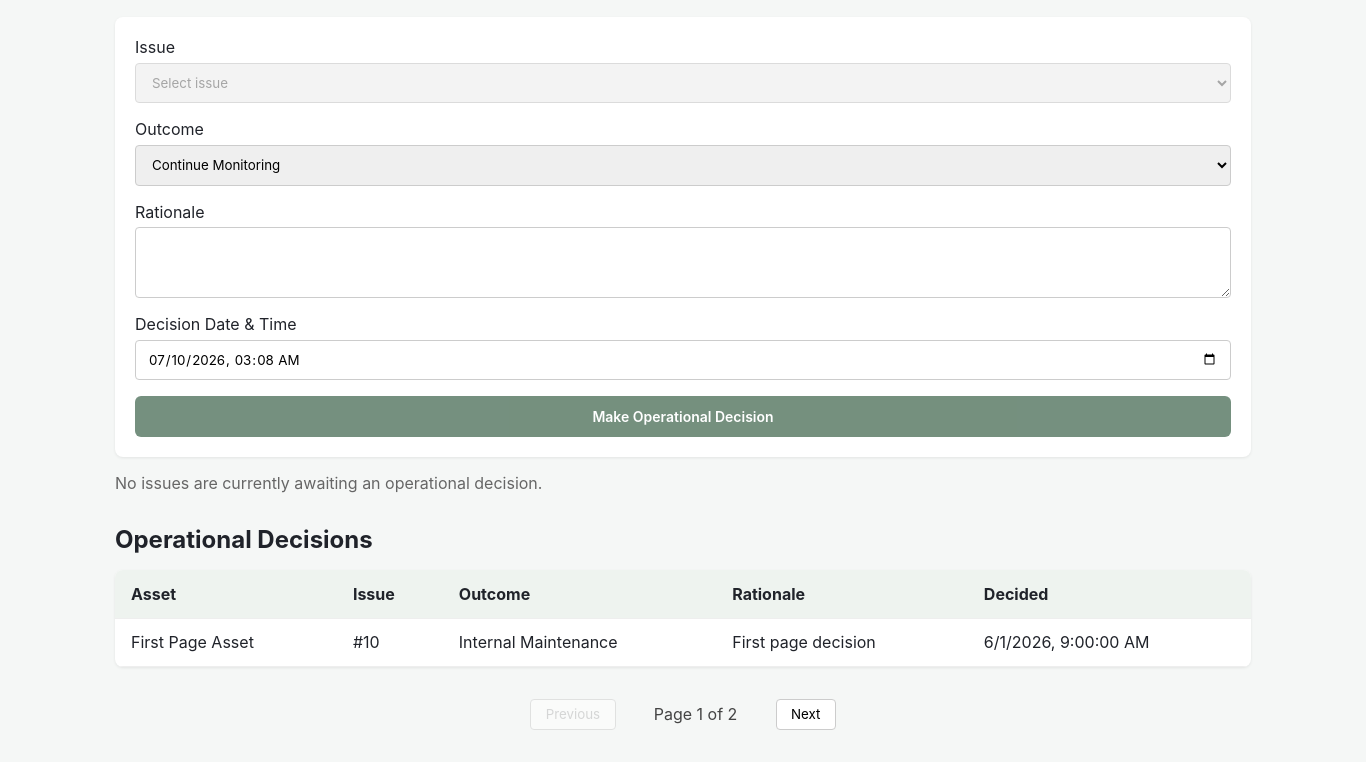
Scenario: OperationalDecisionsPage › loads the next page when Next is clicked
(page scrolled)
Expected: the text "First page decision" is shown, [716,618,968,666]
Click the button with test id "pagination-next" at (806, 714), box [776,699,836,730]
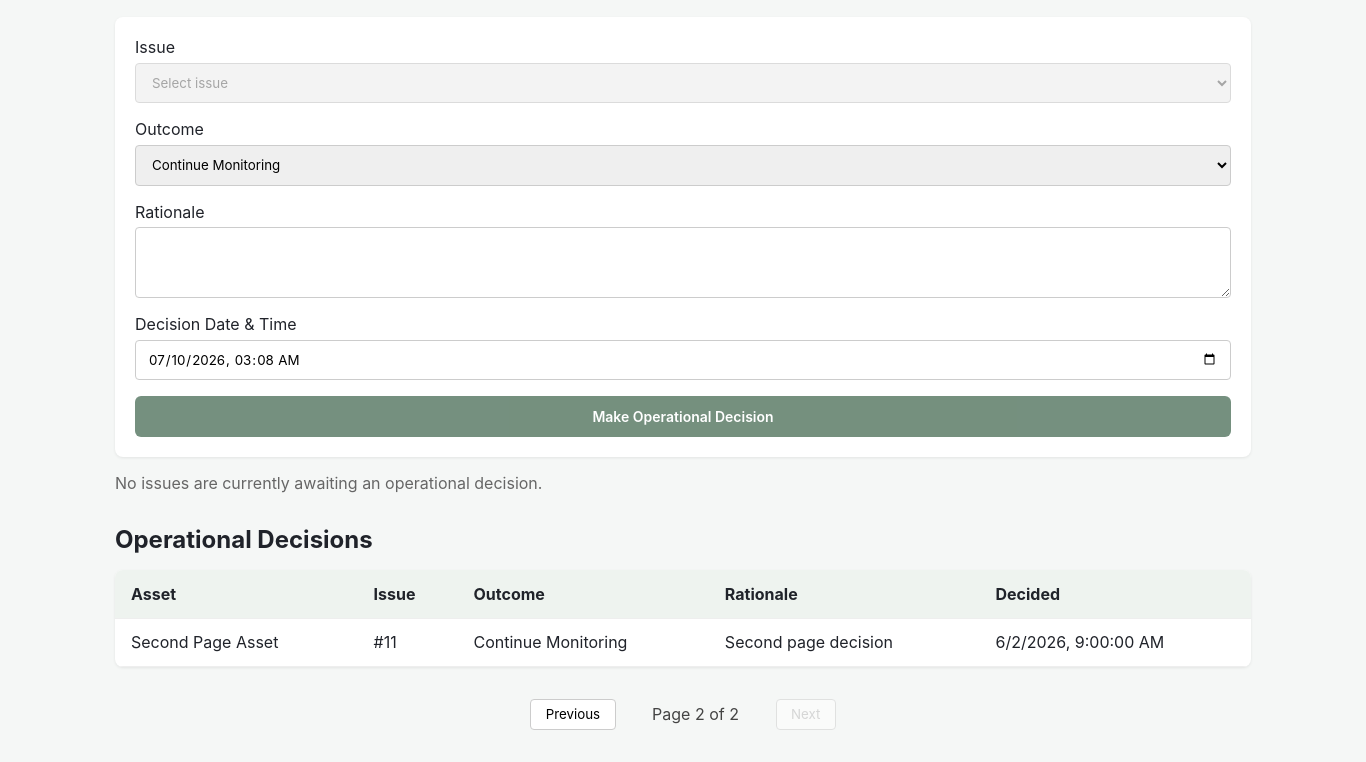
Result: the text "Second page decision" is shown at [709,618,980,666]
